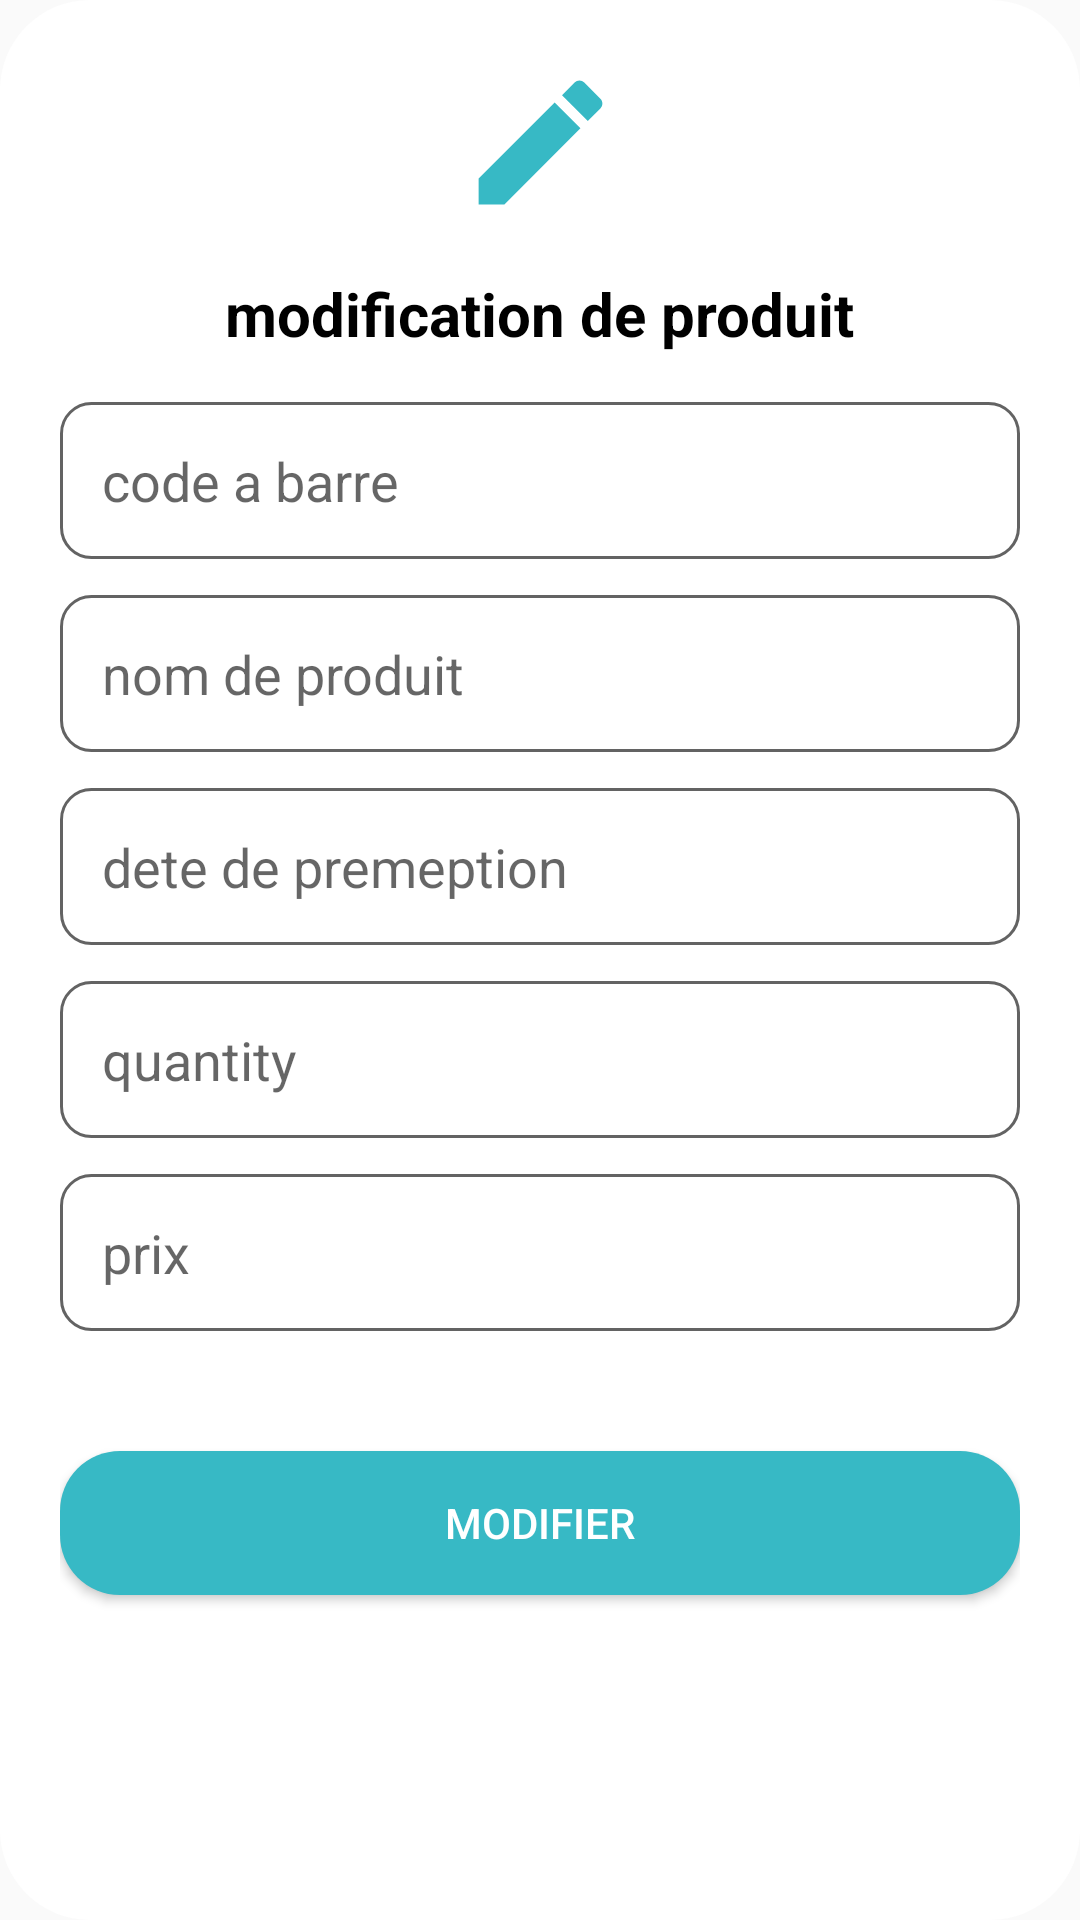

Named icons in this screenshot (1080w x 1920h) and their bounding boxes, detection(x1, y1, x2, y2):
edit: detection(478, 80, 603, 205)
